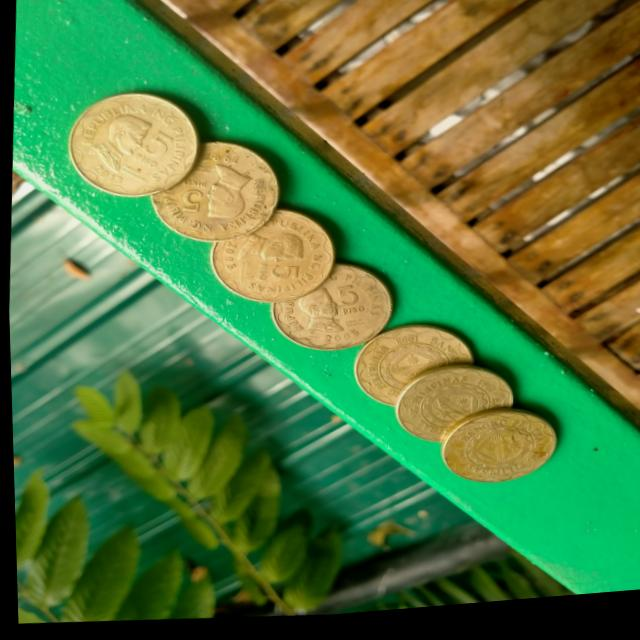5_Old_Back: (363, 335, 453, 406)
5_Old_Front: (166, 156, 265, 240), (281, 271, 378, 354)
